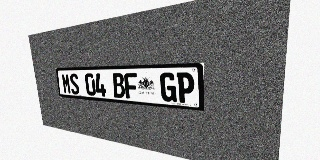0: (84, 73, 96, 96)
4: (94, 73, 106, 97)
B: (112, 73, 125, 98)
F: (124, 73, 138, 99)
G: (160, 72, 177, 102)
M: (61, 73, 72, 94)
P: (176, 72, 195, 104)
S: (69, 73, 80, 95)
